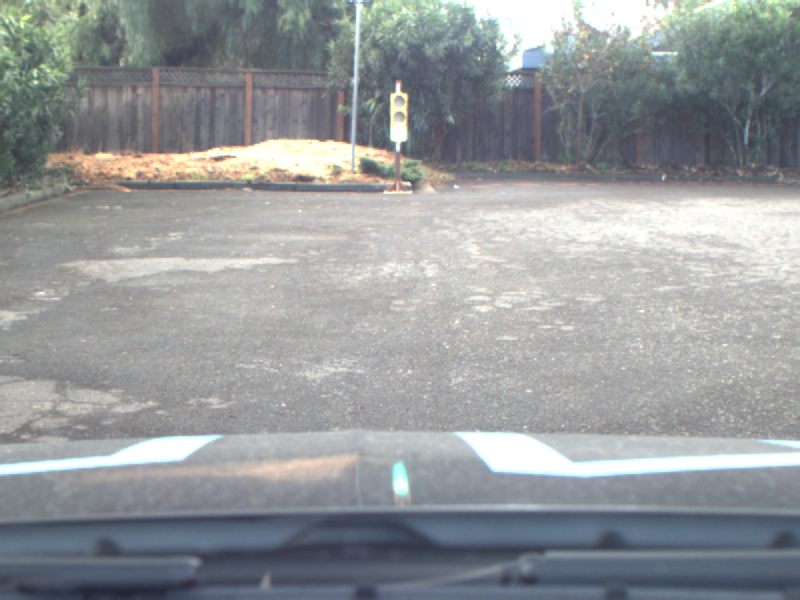Green: (389, 91, 407, 142)
